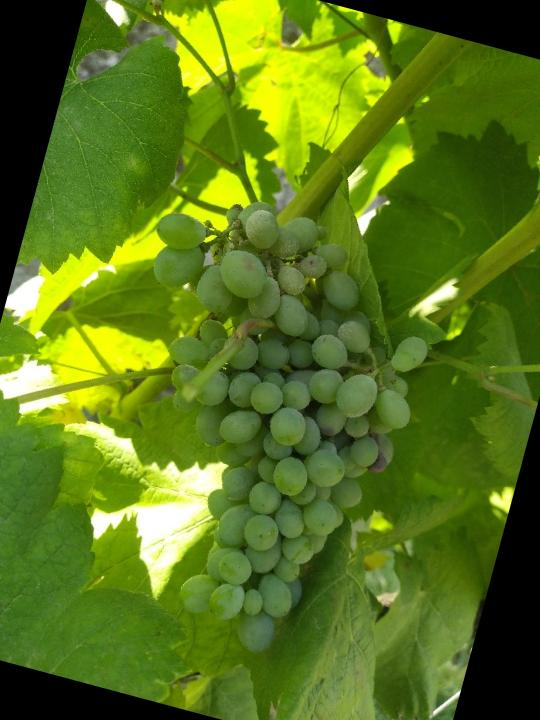grape: (50, 173, 459, 682), (136, 1, 186, 51)
